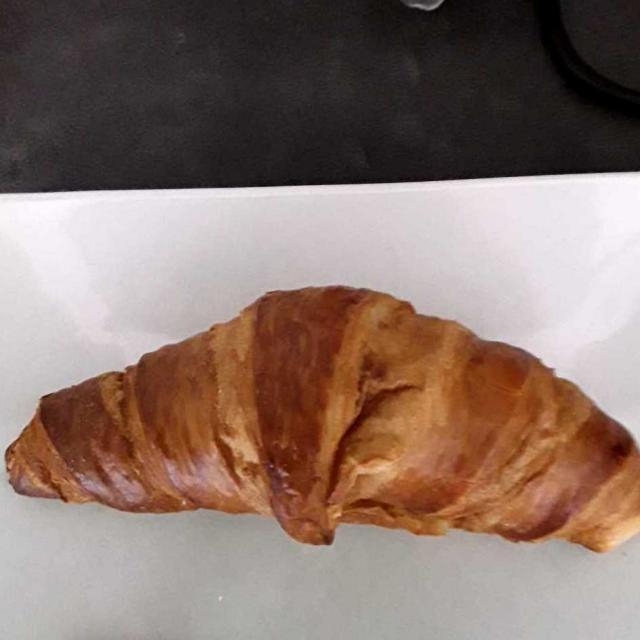croissant: (15, 291, 631, 542)
